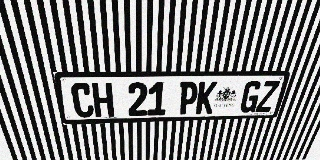1: (147, 82, 167, 116)
2: (128, 82, 147, 116)
C: (70, 83, 95, 118)
G: (239, 81, 263, 113)
H: (91, 83, 114, 117)
K: (195, 81, 218, 114)
P: (178, 82, 199, 115)
Z: (255, 81, 280, 112)
